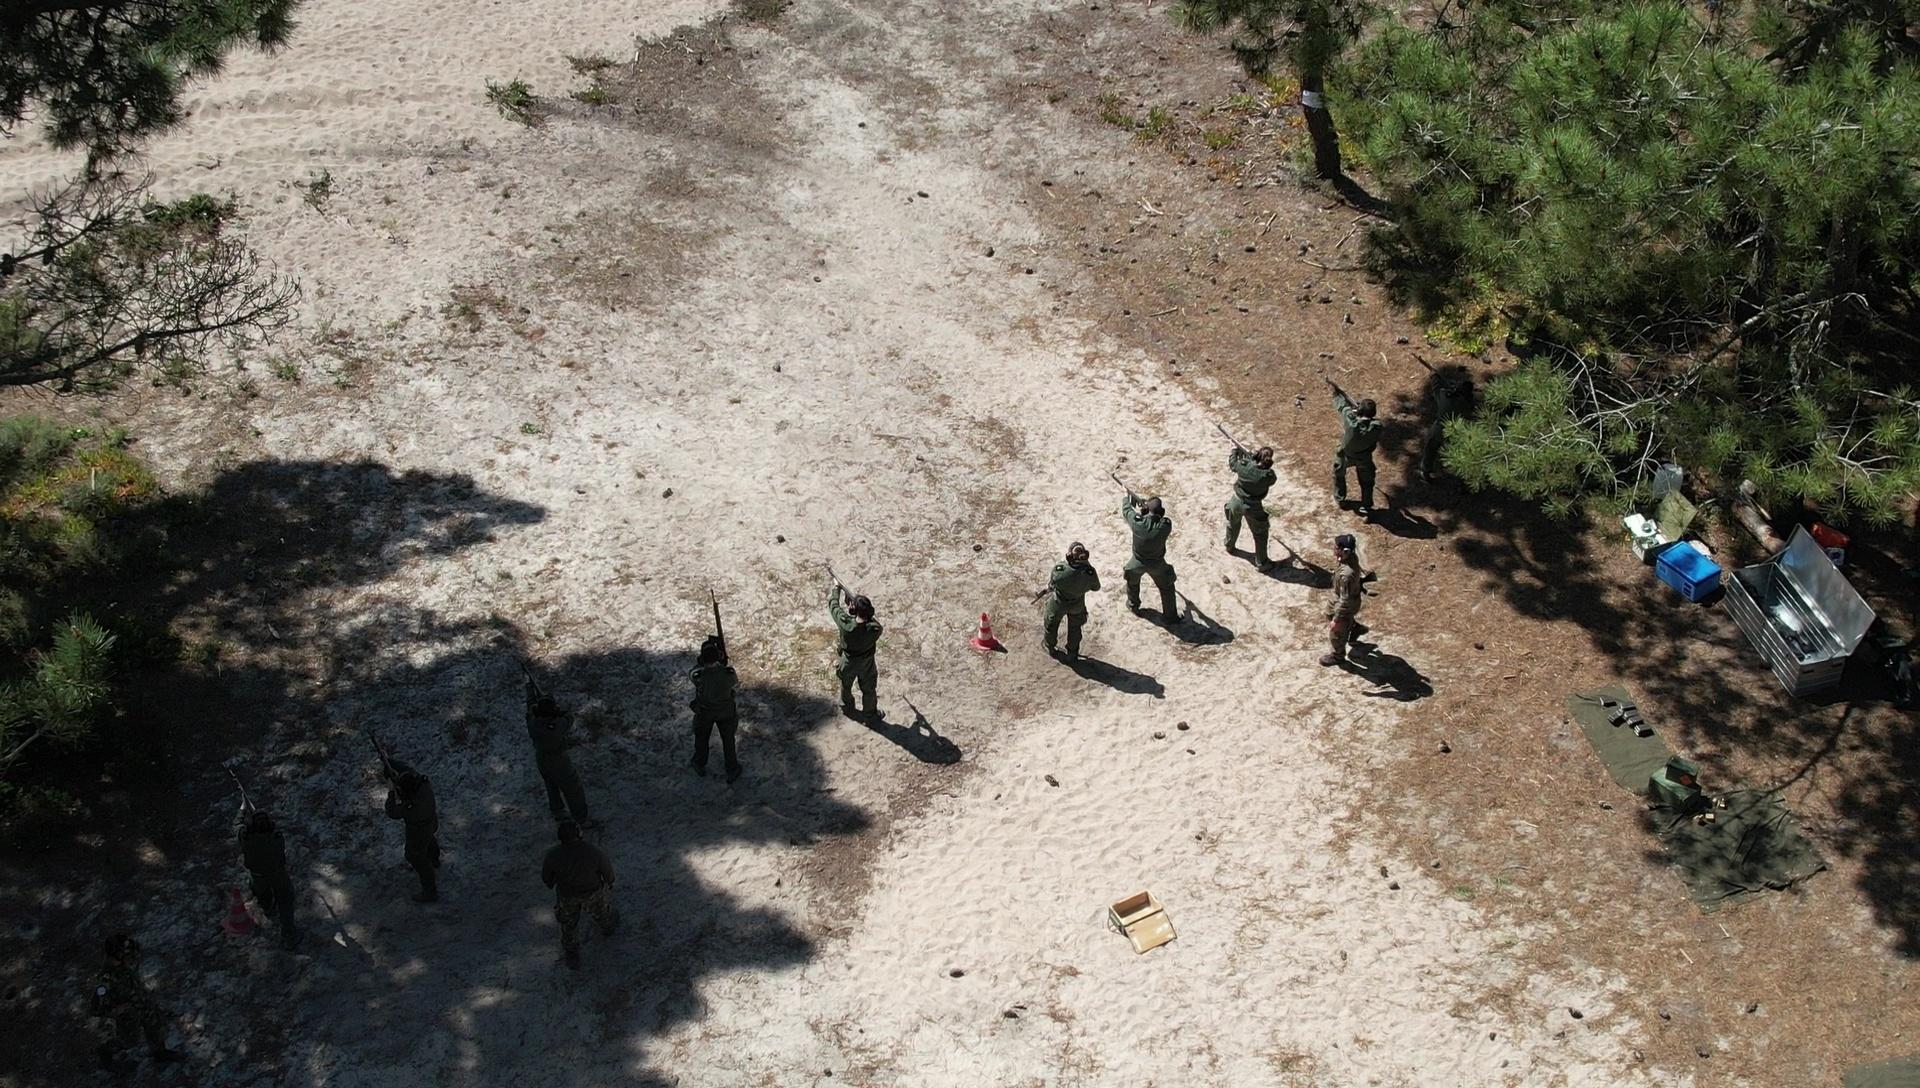Soldier: (501, 649, 626, 849), (353, 735, 475, 932), (525, 789, 634, 977), (208, 790, 320, 961), (663, 622, 764, 804), (1100, 479, 1201, 642), (1197, 433, 1294, 589), (1025, 531, 1116, 694), (814, 572, 899, 739), (1313, 526, 1393, 680), (1383, 380, 1464, 516), (1317, 378, 1390, 518)
